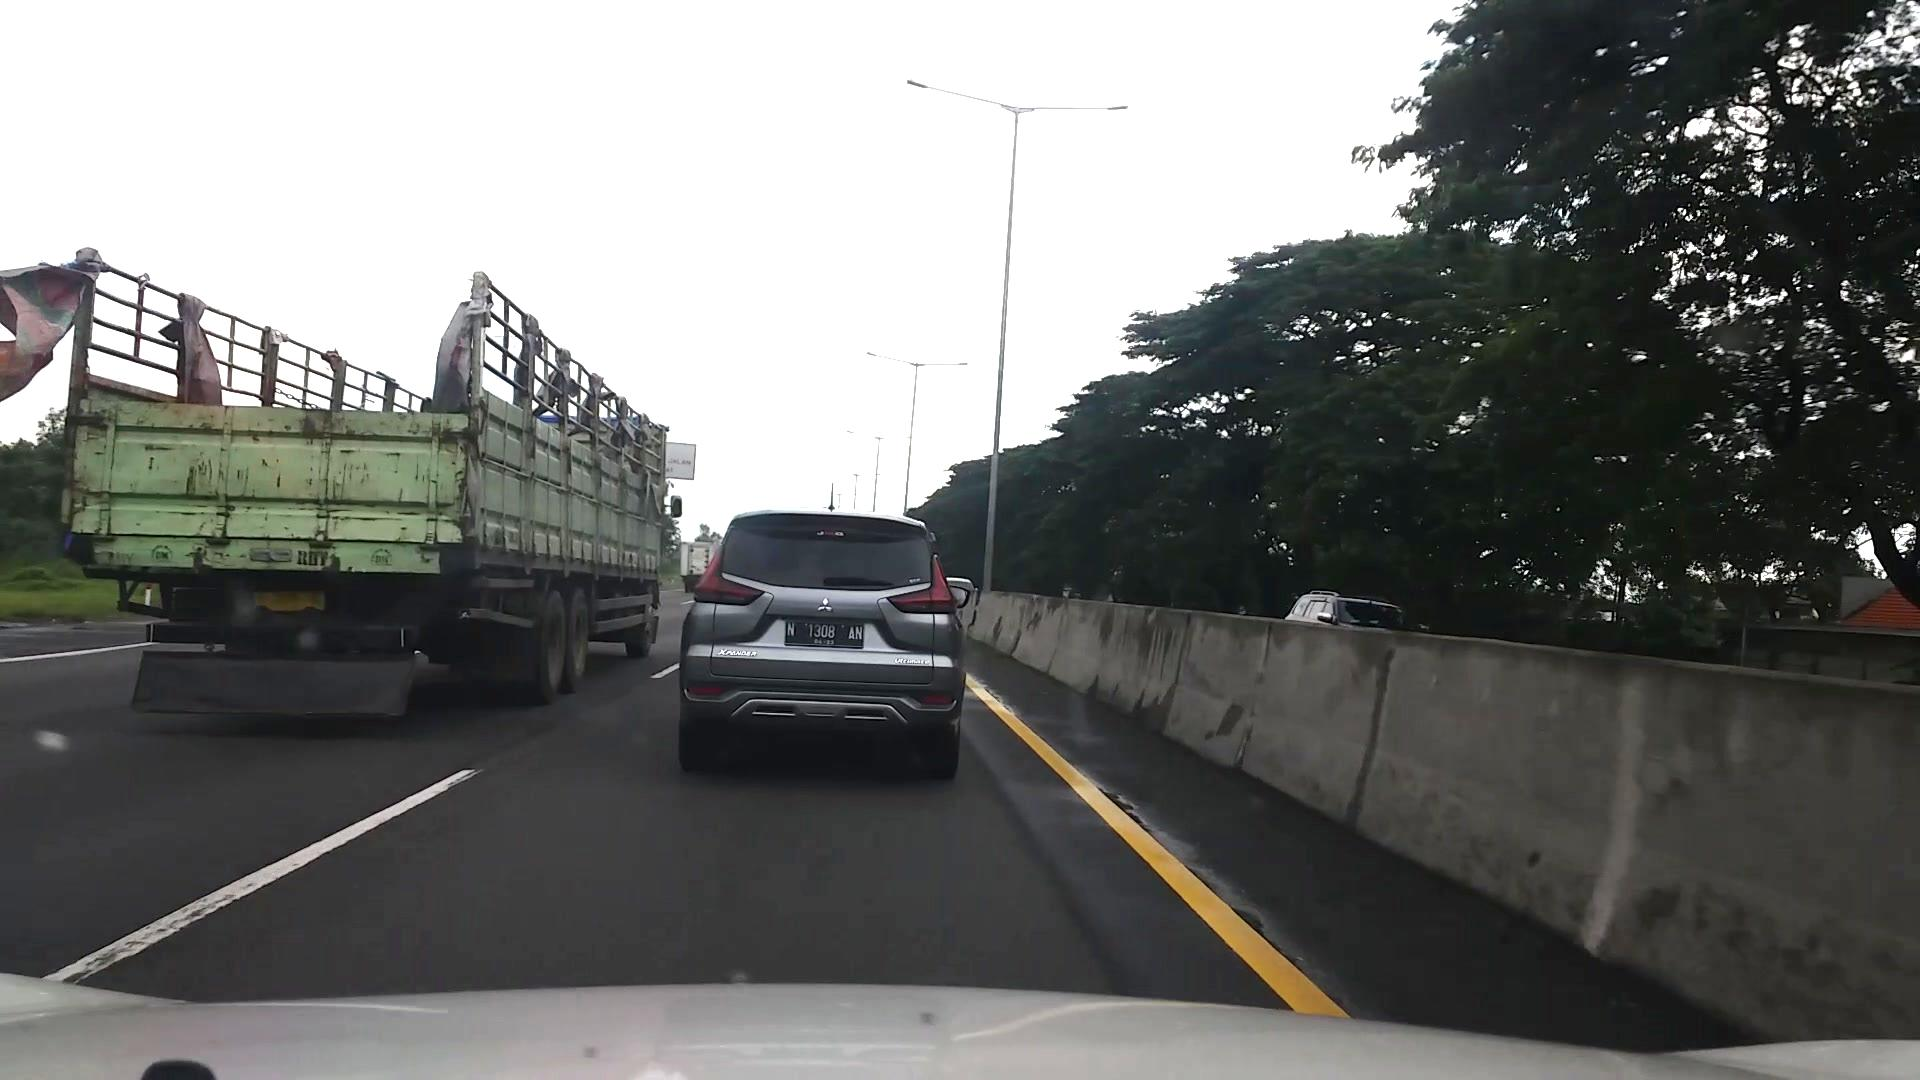plate_positive: (785, 620, 862, 647)
